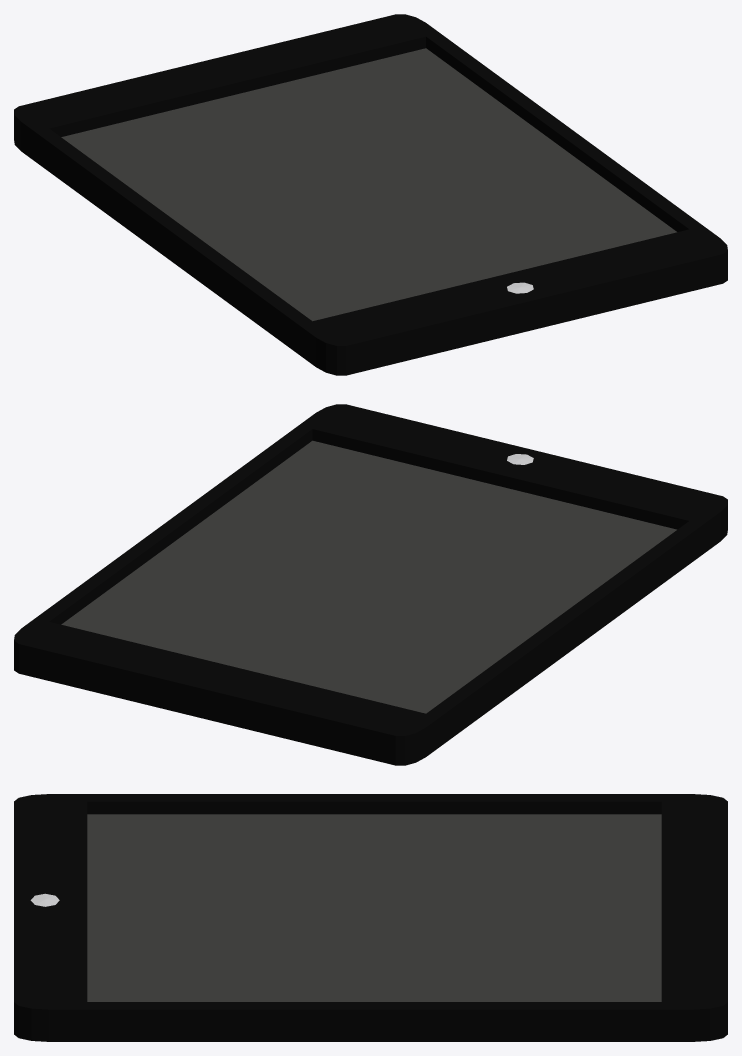
Rendered from tablette.fbx.
3 views of the same model, one above another, from view 1: azimuth 30°, elevation 25°; view 2: azimuth 150°, elevation 25°; view 3: azimuth 270°, elevation 25° (orthographic). The views are drawn at different scales.
Visible parts, largest first — view 1: Plane.021; view 2: Plane.021; view 3: Plane.021.
Part boxes in pixels (x1=…): Plane.021: x1=14, y1=14, x2=727, y2=375; Plane.021: x1=14, y1=404, x2=727, y2=765; Plane.021: x1=14, y1=794, x2=727, y2=1041.
Bounding box in the file's own units: 20 × 1.5 × 28.
